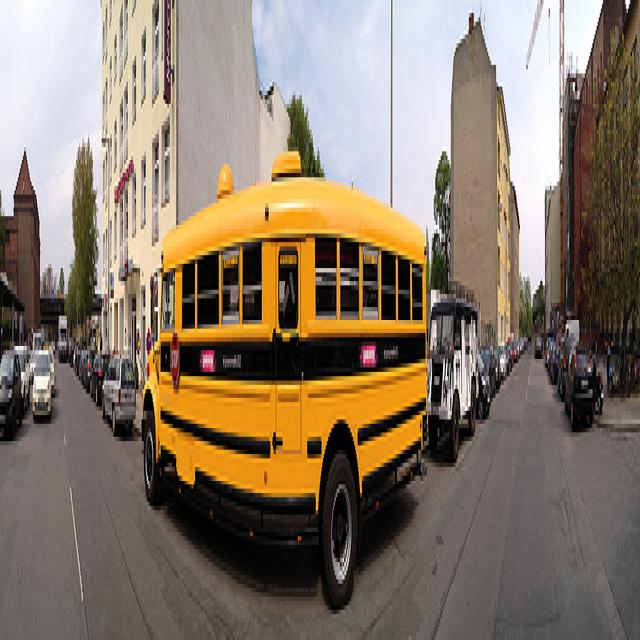motor: (590, 340, 604, 413), (605, 341, 614, 398)
